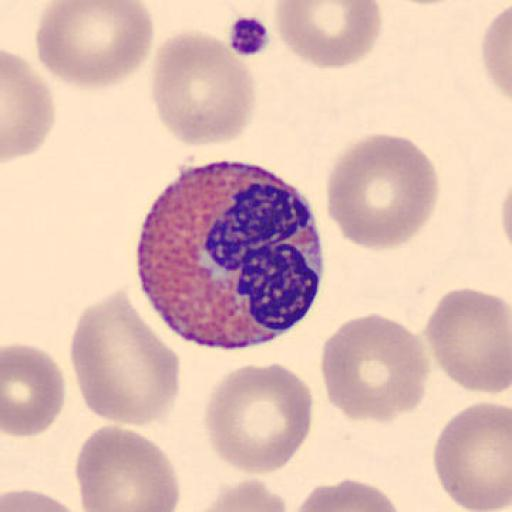RBC: (68, 287, 182, 431), (324, 130, 441, 252), (150, 27, 258, 149), (201, 360, 314, 476), (318, 311, 430, 424), (33, 0, 155, 90), (423, 286, 511, 396), (73, 424, 182, 512), (432, 399, 512, 512), (274, 0, 383, 69), (1, 49, 57, 164), (1, 341, 67, 438), (291, 476, 403, 512), (192, 476, 290, 512), (480, 0, 512, 102), (1, 488, 87, 512), (499, 181, 512, 255)
WBC: (135, 154, 324, 351)
